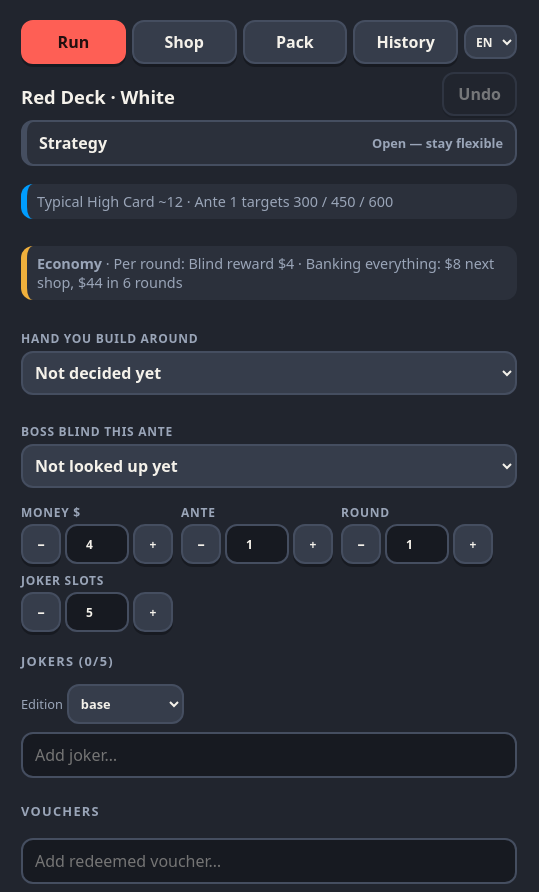
Test: keeps shop entries when switching tabs
The image size is (539, 892).
Click the button "Shop" at (184, 42), box top-left (132, 20), bottom-right (237, 64)
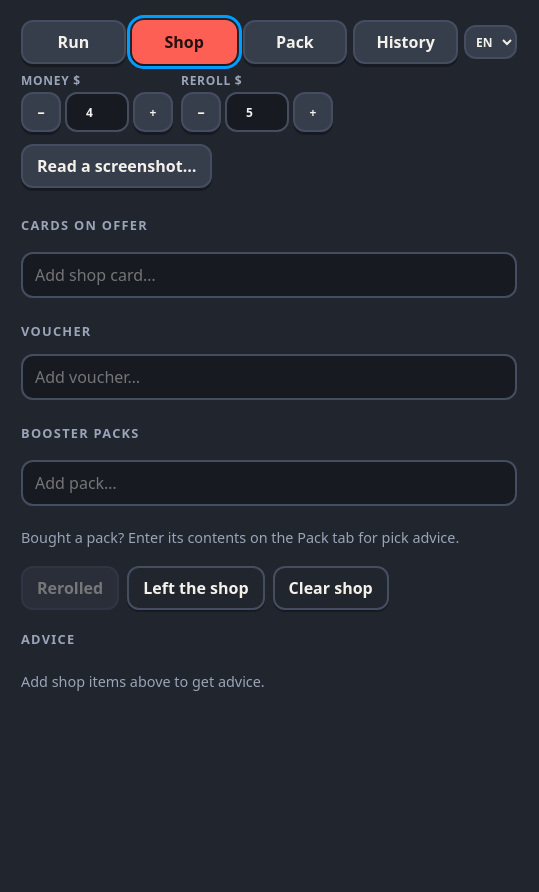
Type "blueprint" into the dropdown with placeholder "Add shop card…" at (269, 275), box top-left (21, 252), bottom-right (517, 298)
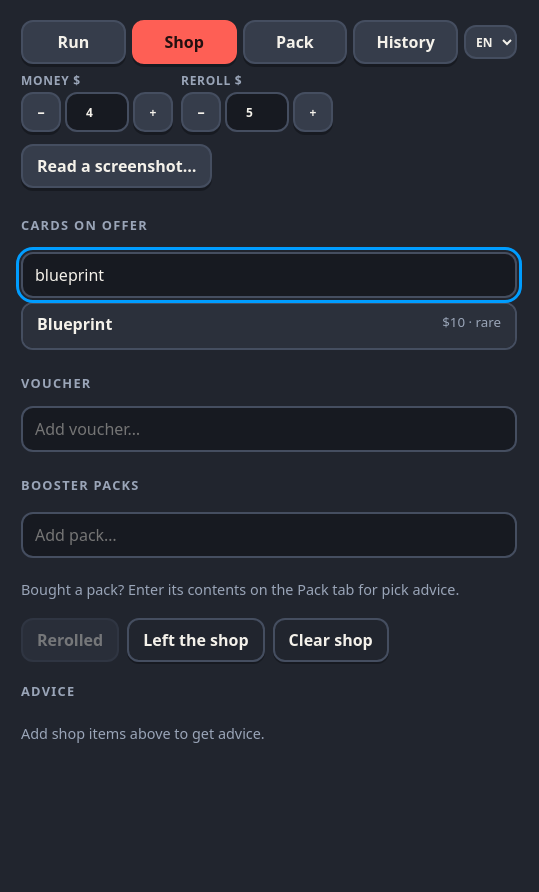
Click the button "Blueprint $10 · rare" at (75, 324), box top-left (23, 304), bottom-right (515, 348)
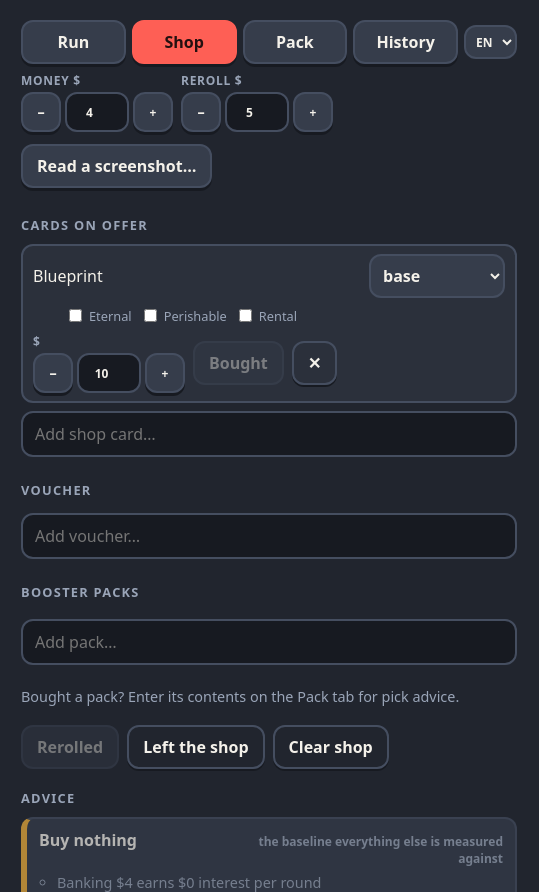
Click the button "Run" at (73, 42), box top-left (21, 20), bottom-right (126, 64)
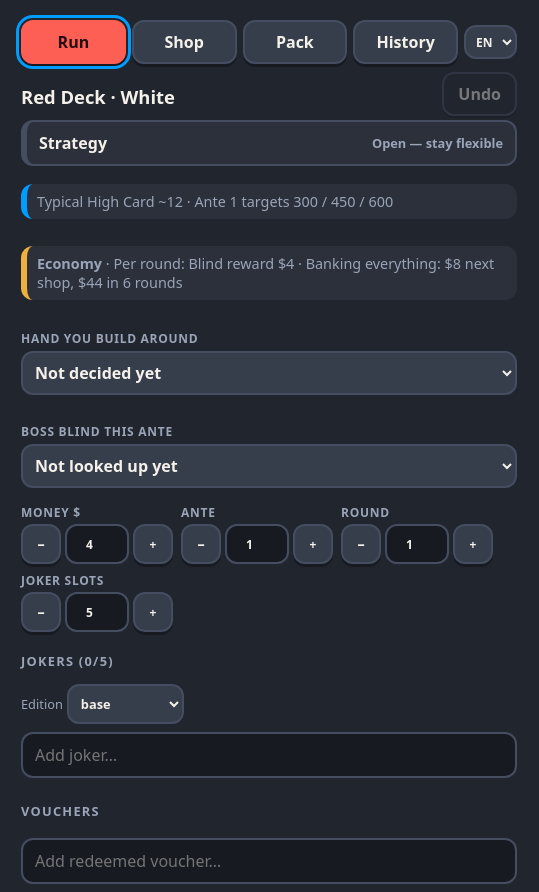
Click the button "Shop" at (184, 42), box top-left (132, 20), bottom-right (237, 64)
(page scrolled)
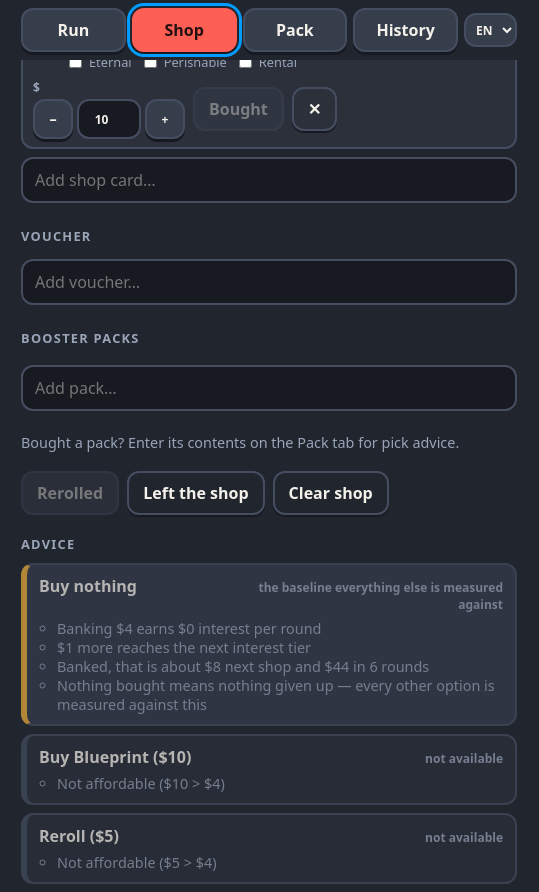
Expected: the text "Buy Blueprint ($10)" is shown, top-left (39, 746), bottom-right (191, 768)
